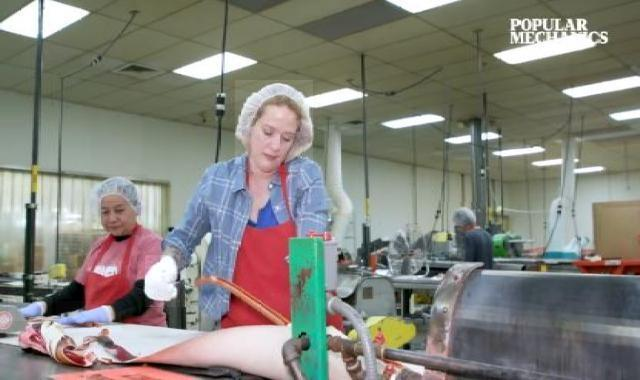apron: (146, 256, 187, 308), (56, 302, 122, 332), (8, 291, 52, 321)
gloves: (235, 80, 313, 164), (87, 174, 148, 234), (444, 203, 482, 234)
no_hairnet: (242, 119, 304, 172), (97, 201, 141, 236)
